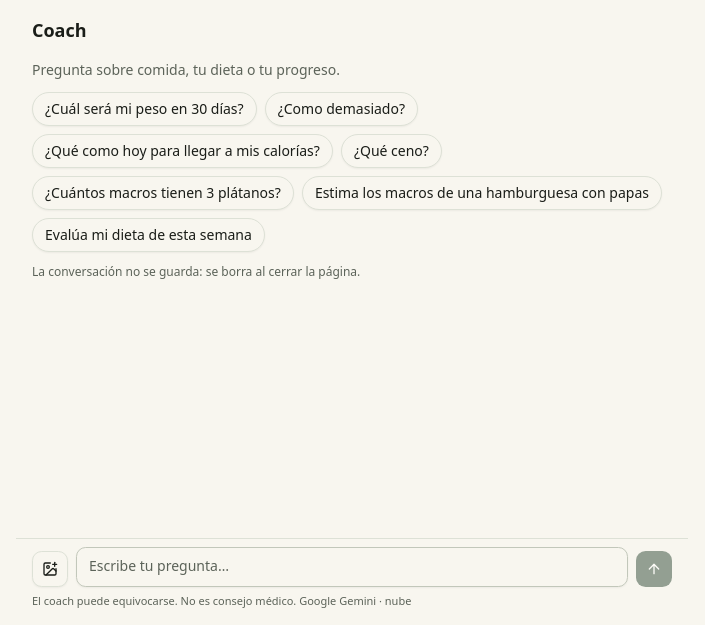
Coach › recuerda la conversación hasta «Nueva conversación»
Step 1. Type "¿Qué ceno?" into the text box labelled "Escribe tu pregunta…" → (352, 567), box [76,547,628,587]
Then press Enter
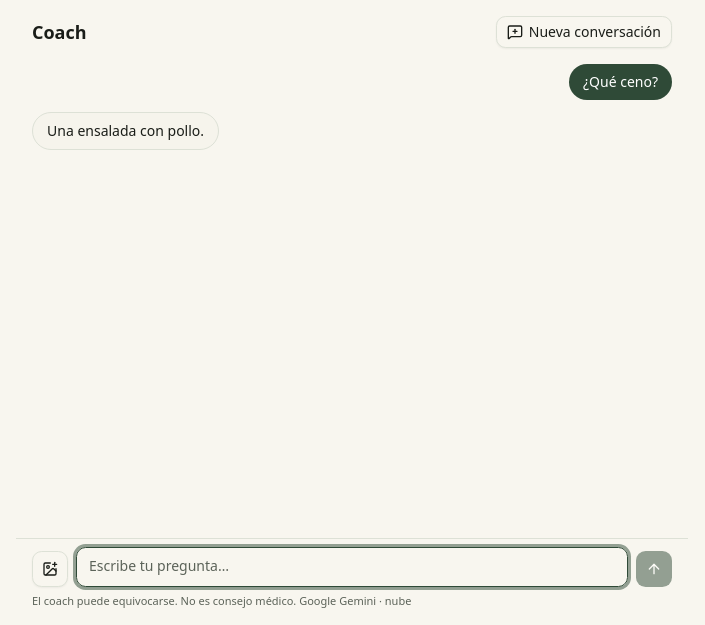
Now the text "Una ensalada con pollo." is shown, box [47,121,204,141]
Step 2. Type "¿Cuánta proteína tiene?" into the text box labelled "Escribe tu pregunta…" → (352, 567), box [76,547,628,587]
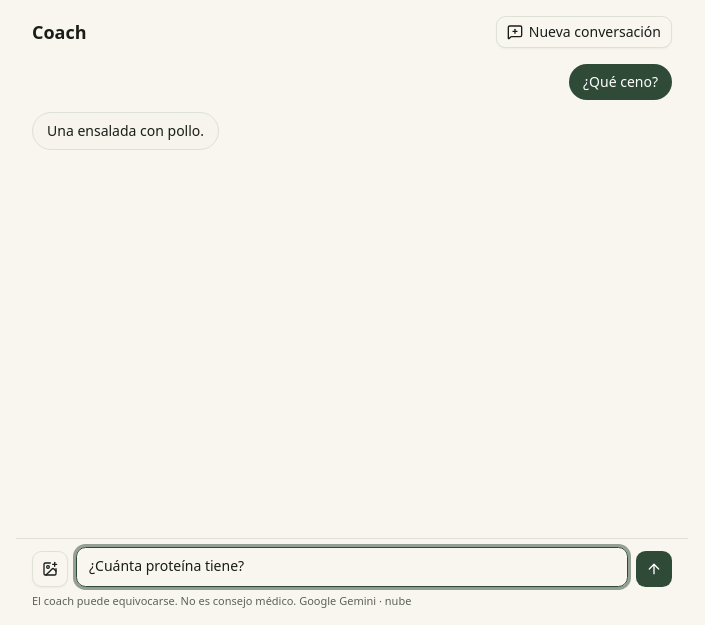
Step 3. Click the button named "Enviar" → (654, 569), box [636,551,672,587]
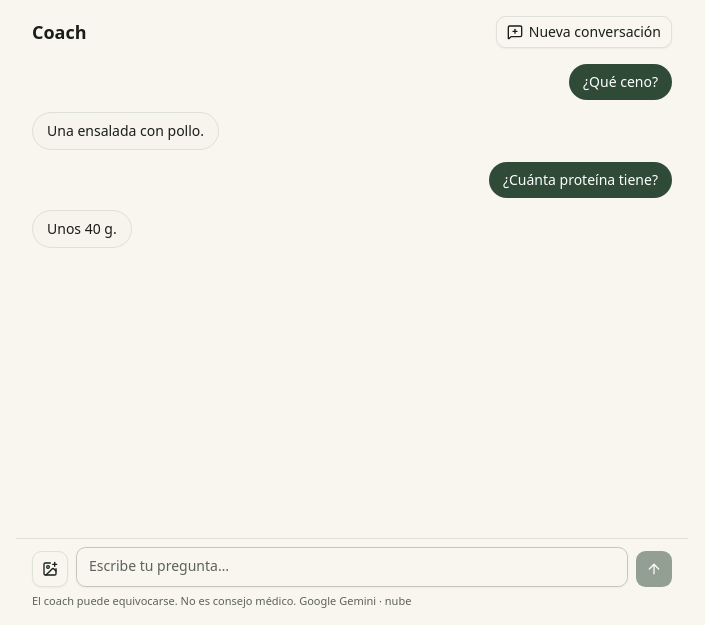
Now the text "Unos 40 g." is shown, box [47,219,117,239]
Step 4. Click the button "Nueva conversación" → (584, 32), box [496,16,672,48]
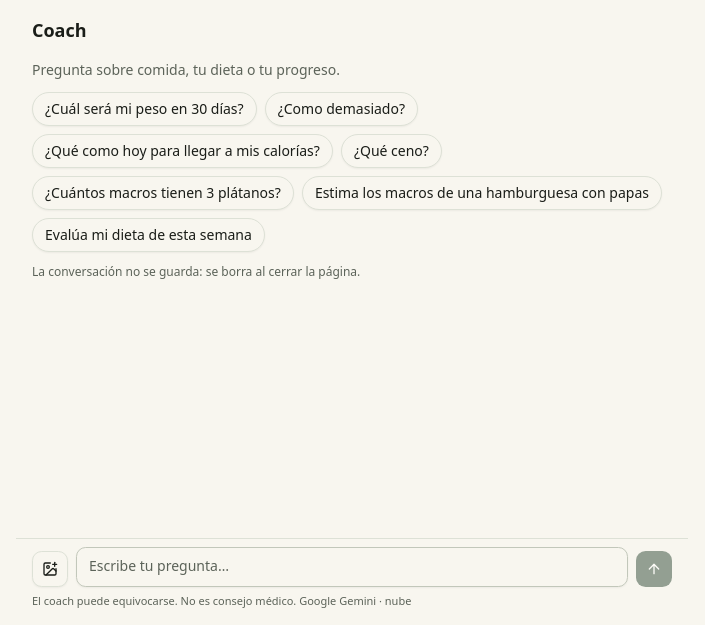
Now the text "Unos 40 g." is gone
Now the button "¿Como demasiado?" is shown, box [265,92,418,126]
